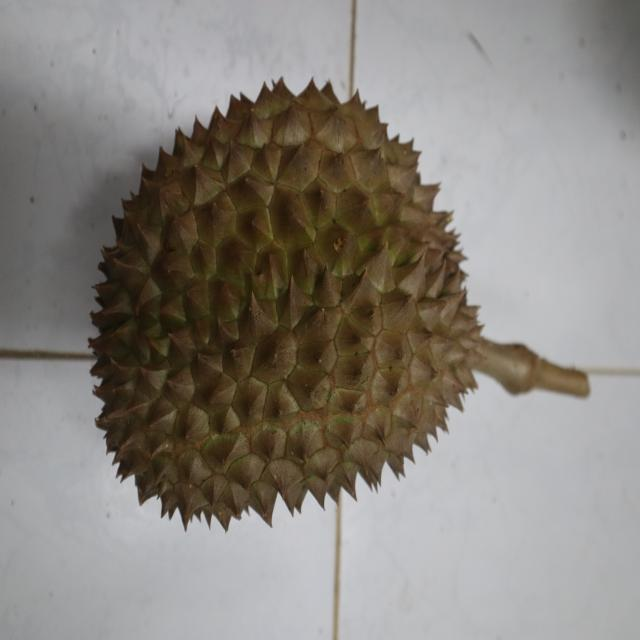mature: (84, 76, 486, 533)
